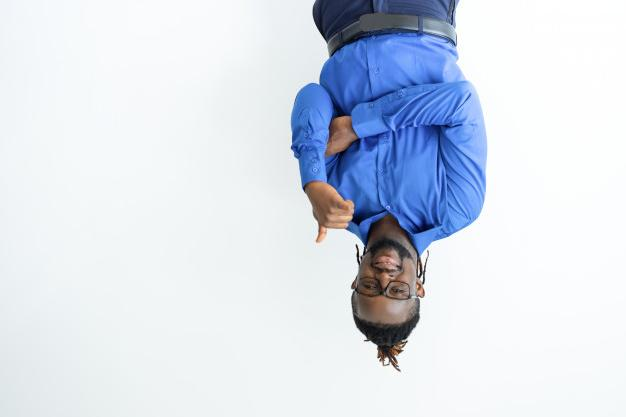thumbsdown: (315, 201, 354, 244)
